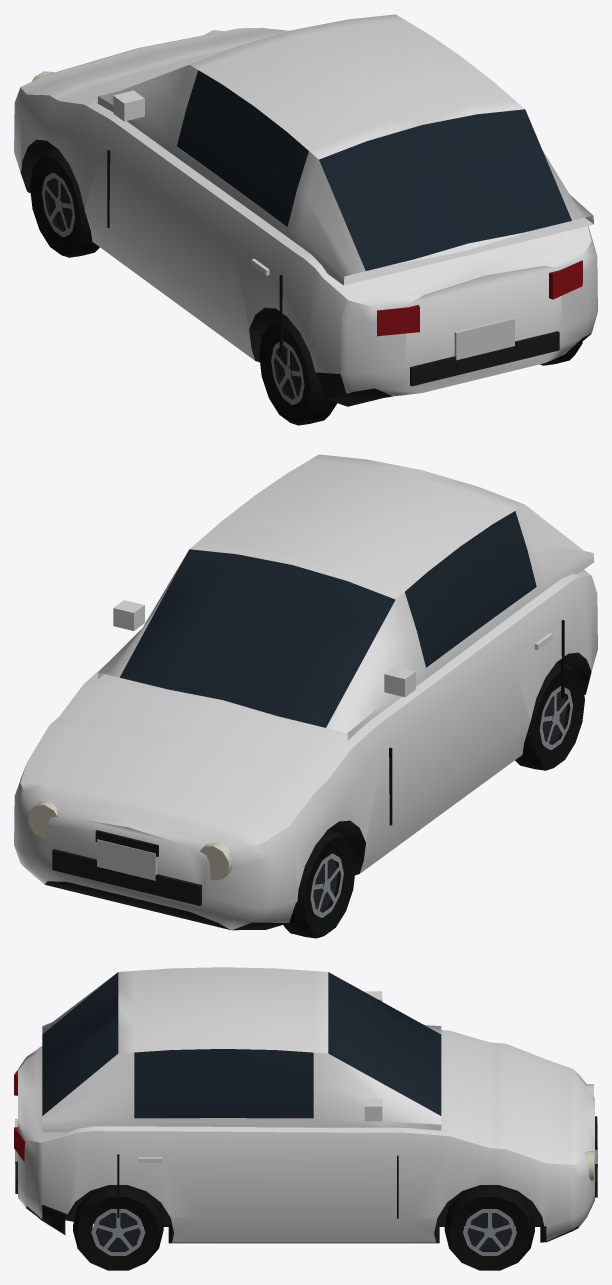
The model's file is small_drive.glb.
The picture shows the model from 3 angles, top to bottom: view 1: azimuth 30°, elevation 25°; view 2: azimuth 150°, elevation 25°; view 3: azimuth 270°, elevation 25°; orthographic projection. The views are drawn at different scales.
Visible parts, largest first — view 1: small, wheel_rl, wheel_fl, tail; view 2: small, wheel_fl, wheel_rl, head; view 3: small, wheel_fr, wheel_rr.
Boxes of the visible parts, x1,y1,x2,y2 form: small: (14,14,597,406); wheel_rl: (259,316,337,425); wheel_fl: (30,148,99,257); tail: (377,260,582,336); small: (14,454,597,930); wheel_fl: (283,829,355,938); wheel_rl: (515,661,584,770); head: (28,800,231,880); small: (15,967,597,1243); wheel_fr: (444,1185,534,1270); wheel_rr: (73,1185,163,1270).
Size of the model in its own units: 1.69 by 1.5 by 3.61.
